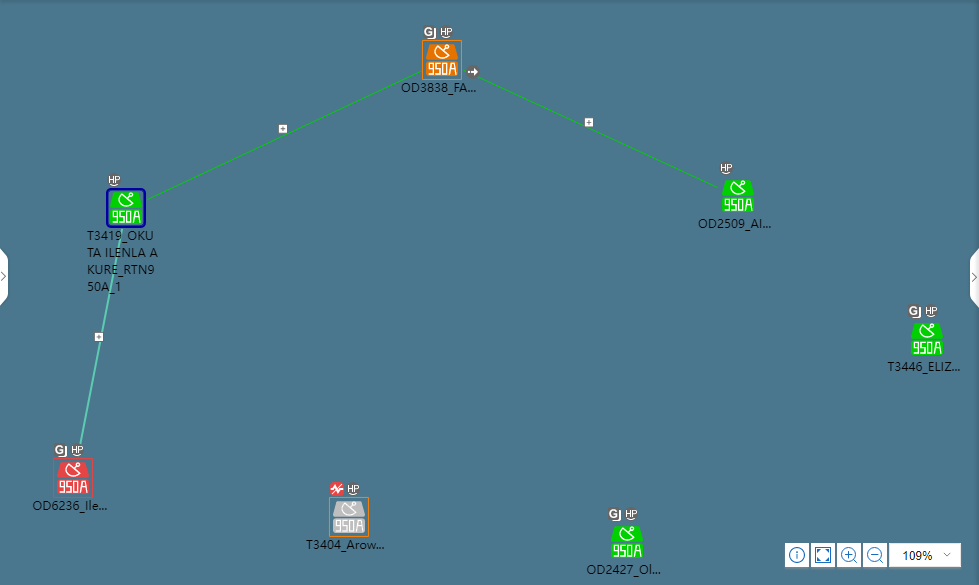Link_Blue: (76, 228, 122, 447)
Link_Green: (150, 69, 424, 198), (468, 69, 724, 188)
RTN_Gray: (333, 504, 369, 539)
RTN_Green: (107, 192, 148, 225), (609, 528, 644, 563), (719, 179, 753, 214), (909, 326, 944, 355)
RTN_Orange: (425, 45, 459, 80)
RTN_Red: (52, 461, 93, 494)
